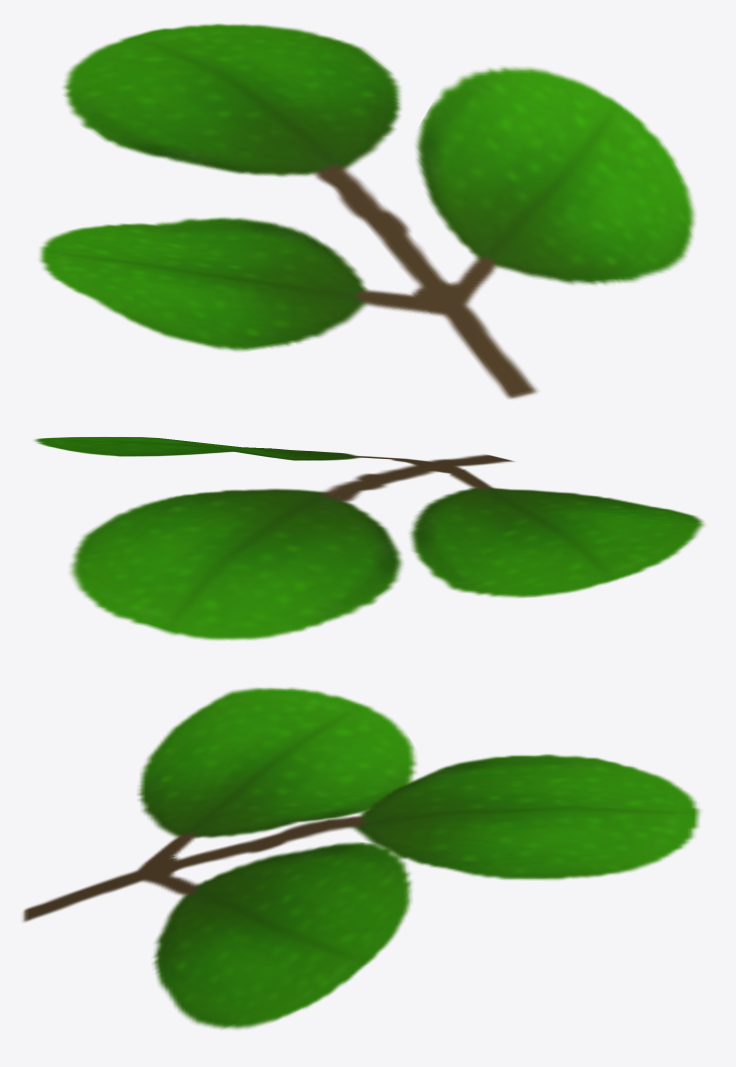
File: PLeaf2.glb
The picture shows the model from 3 angles, top to bottom: view 1: azimuth 30°, elevation 25°; view 2: azimuth 150°, elevation 25°; view 3: azimuth 270°, elevation 25°; orthographic projection. The views are drawn at different scales.
Visible parts, largest first — view 1: PLeaf2; view 2: PLeaf2; view 3: PLeaf2.
Boxes of the visible parts, x1=… form: PLeaf2: x1=39, y1=23, x2=695, y2=398; PLeaf2: x1=34, y1=437, x2=704, y2=640; PLeaf2: x1=23, y1=687, x2=700, y2=1029.
Bounding box in the file's own units: 1.85 × 0.3916 × 1.84.
1 material, 1 textured.
